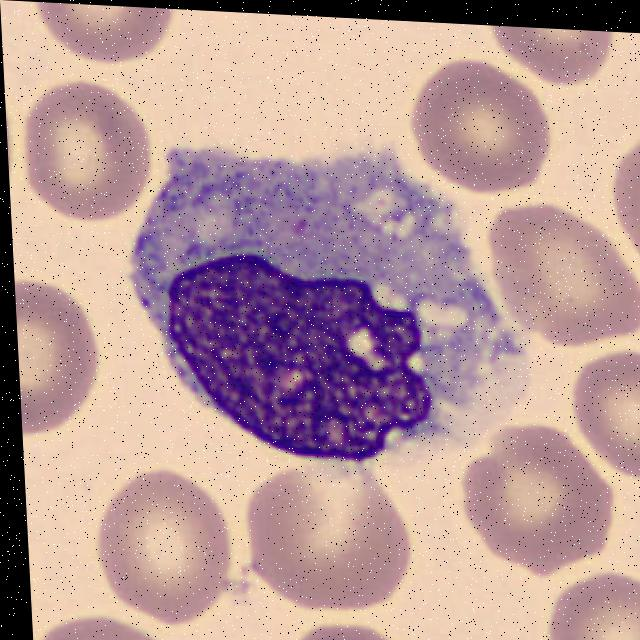monocyte: (107, 137, 539, 484)
rbc: (243, 464, 423, 621), (448, 426, 614, 583), (477, 207, 640, 361), (100, 467, 242, 636), (412, 66, 559, 200), (27, 81, 158, 224), (14, 270, 108, 444), (32, 2, 185, 73), (484, 25, 628, 97), (568, 348, 640, 482), (528, 571, 640, 640), (604, 151, 640, 281), (32, 614, 184, 640), (4, 80, 26, 217), (280, 621, 434, 640)
